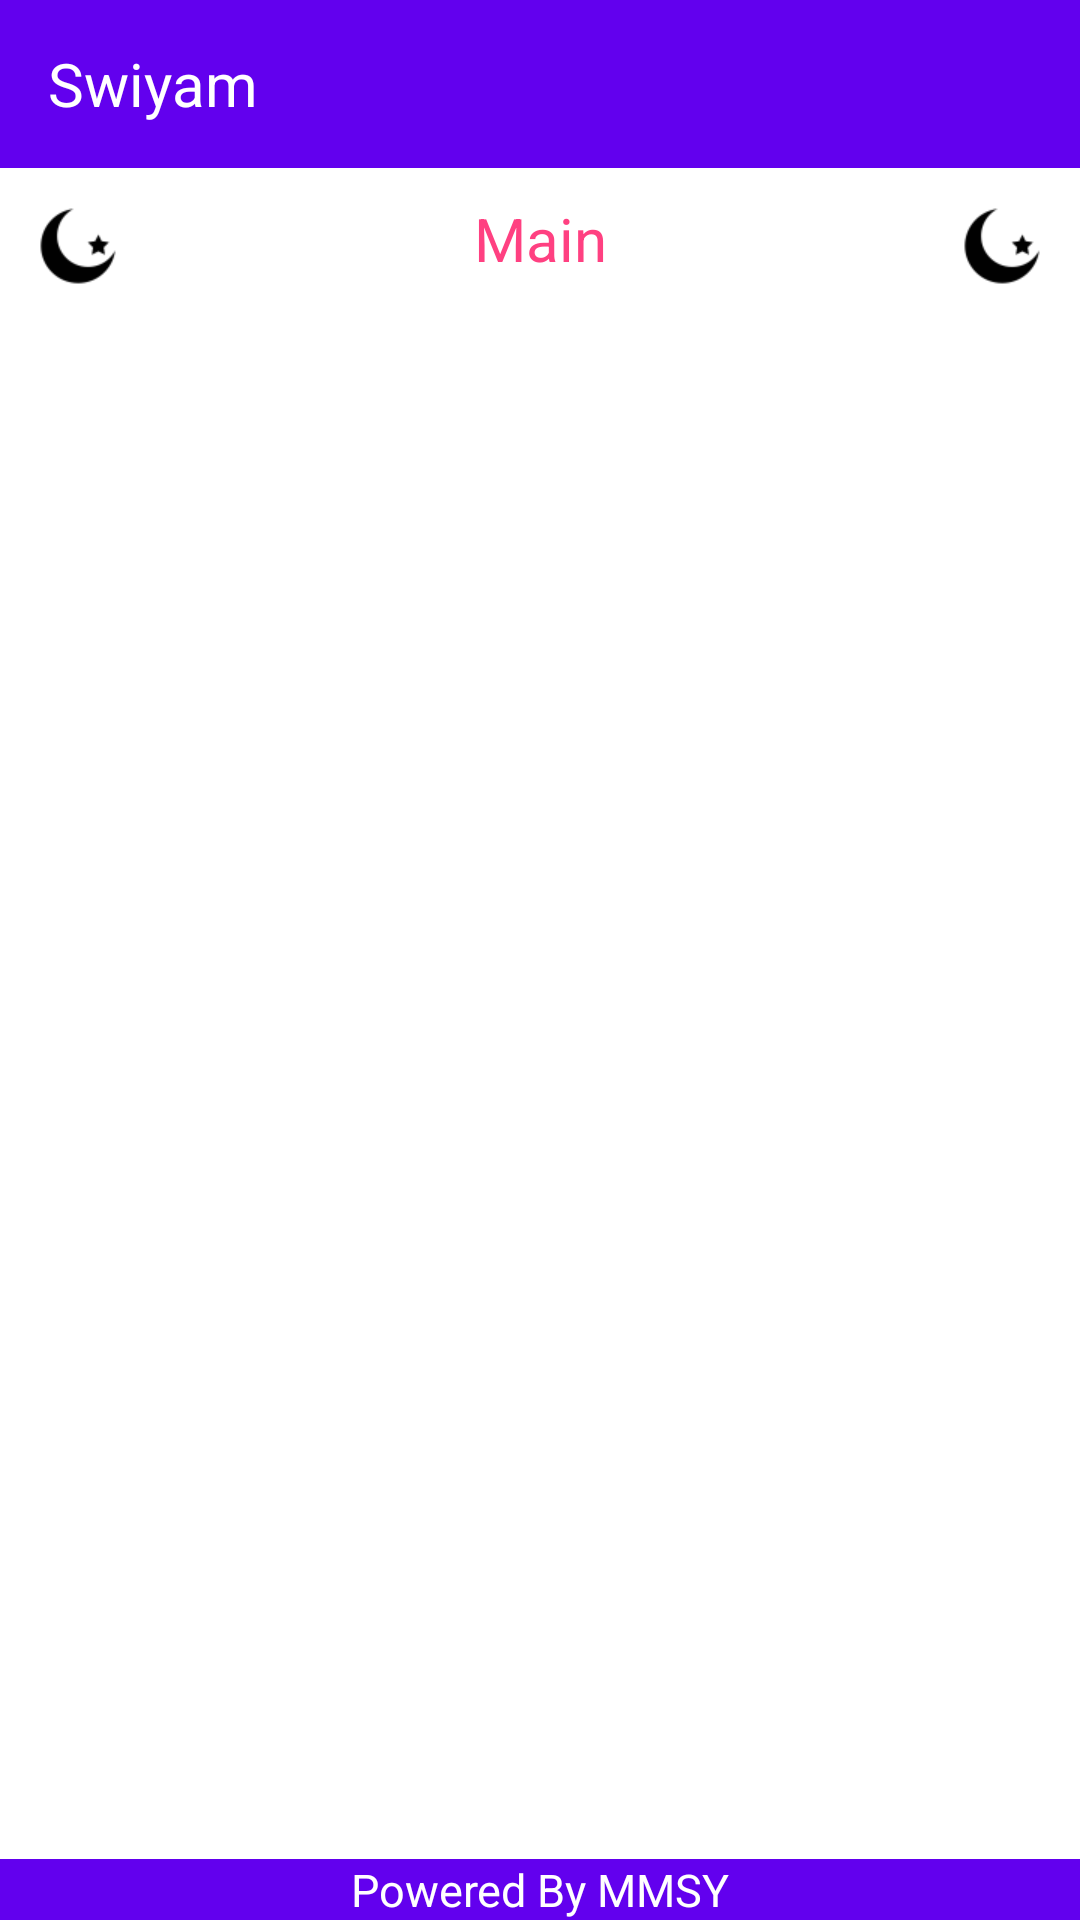

Icons on this 1080 × 1920 Android screen, each with the point to tap as [x,y]:
moon: [78,246], [1002,246]
